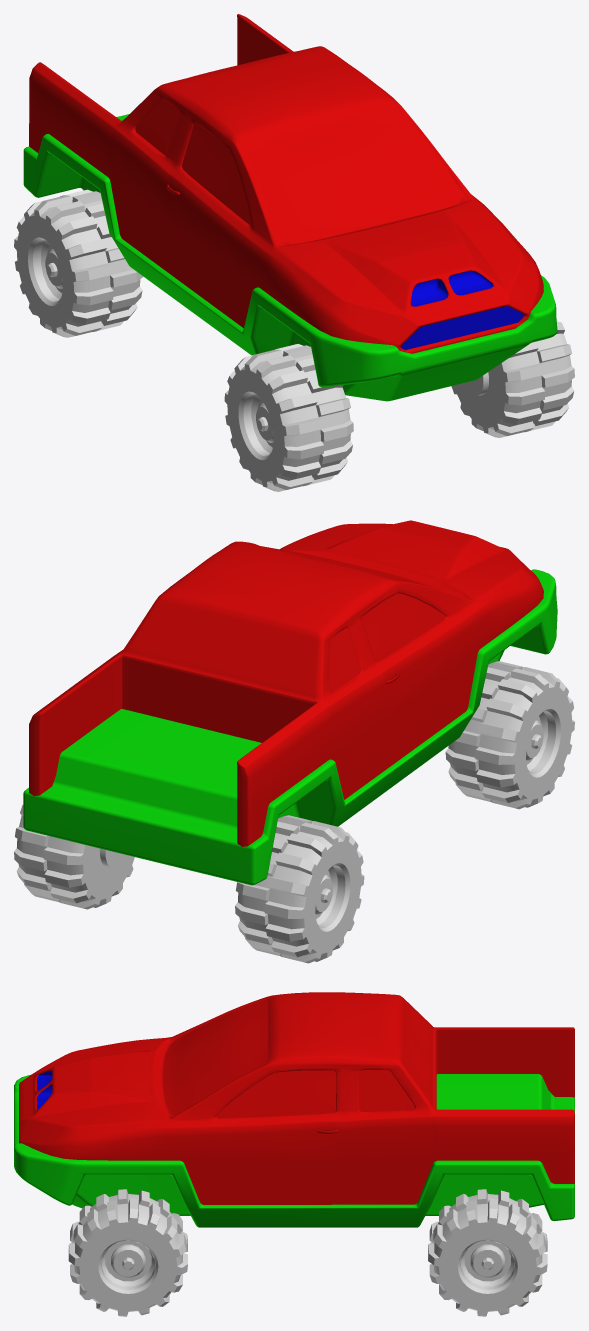
File: Car_01_Main.fbx
3 views of the same model, one above another, from view 1: azimuth 30°, elevation 25°; view 2: azimuth 150°, elevation 25°; view 3: azimuth 270°, elevation 25° (orthographic). The views are drawn at different scales.
Parts seen in each view (by area): view 1: Car_Med, WheelFR_Med, WheelRR_Med, WheelFL_Med; view 2: Car_Med, WheelFR_Med, WheelRR_Med, WheelRL_Med; view 3: Car_Med, WheelRL_Med, WheelFL_Med.
Part boxes in pixels (<box>): Car_Med: <box>23,14,557,401</box>; WheelFR_Med: <box>224,344,353,491</box>; WheelRR_Med: <box>14,189,143,337</box>; WheelFL_Med: <box>451,320,574,437</box>; Car_Med: <box>23,520,557,885</box>; WheelFR_Med: <box>445,661,574,809</box>; WheelRR_Med: <box>235,815,364,963</box>; WheelRL_Med: <box>14,805,134,909</box>; Car_Med: <box>14,992,574,1227</box>; WheelRL_Med: <box>428,1189,547,1316</box>; WheelFL_Med: <box>68,1189,187,1316</box>.
Bounding box in the file's own units: 2.6 × 2.44 × 5.15.
